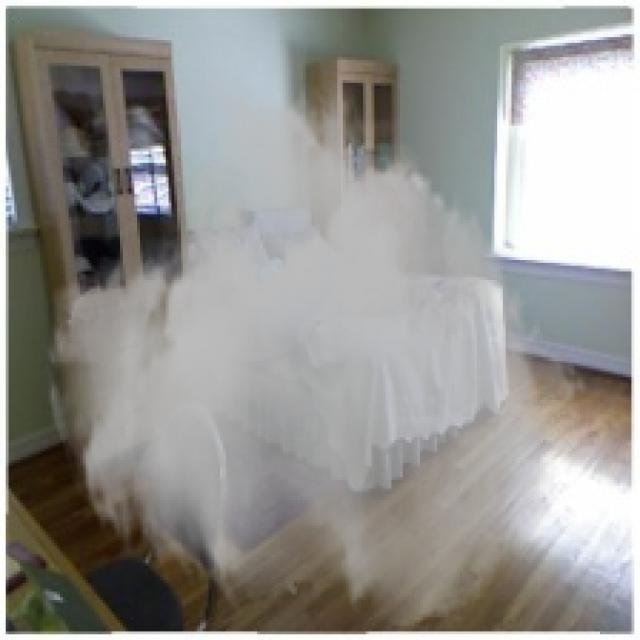Smoke: (42, 66, 588, 632)
